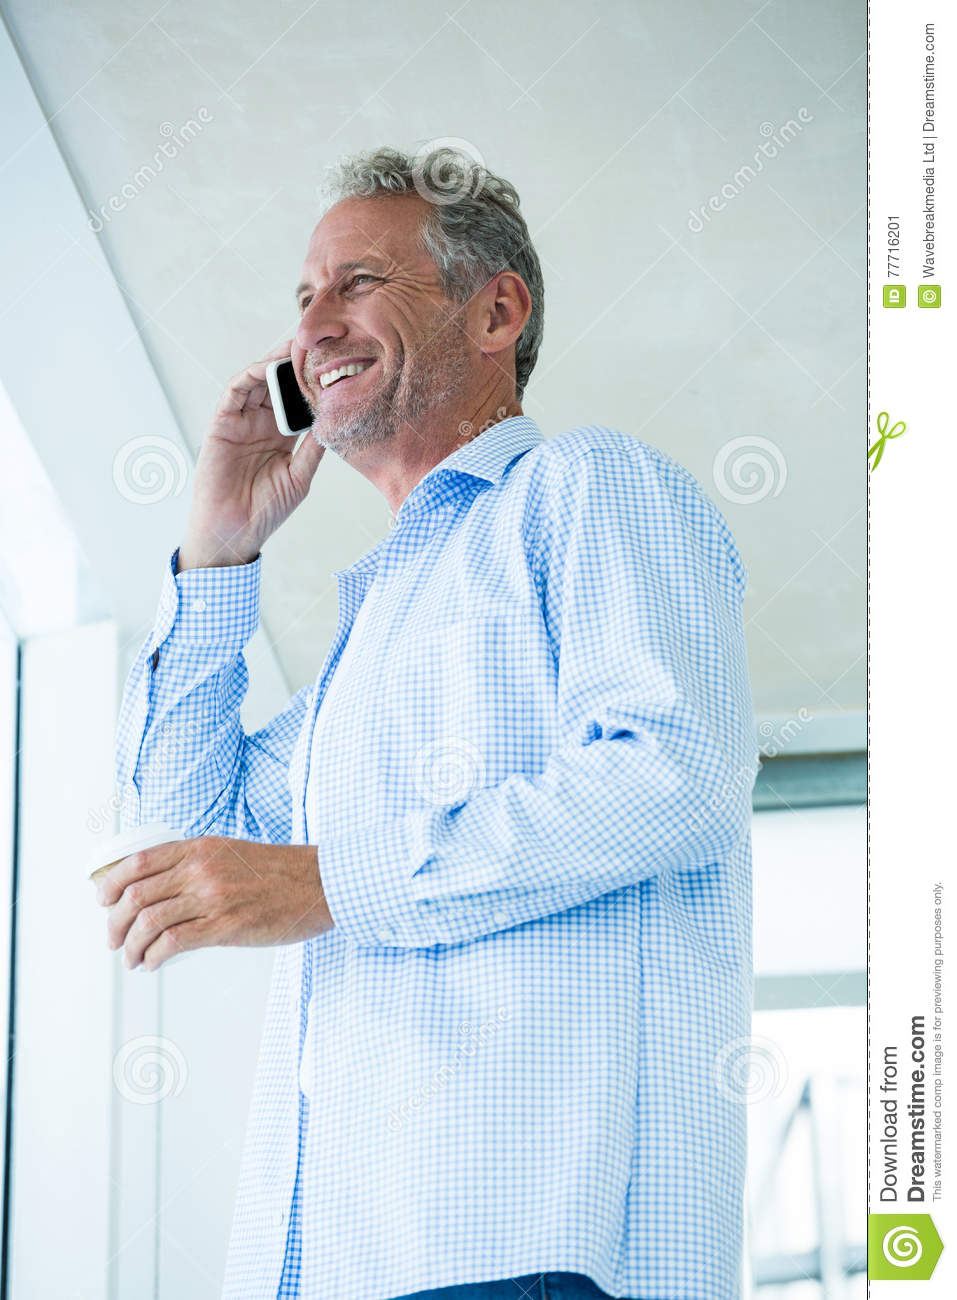talk: (194, 254, 424, 546)
